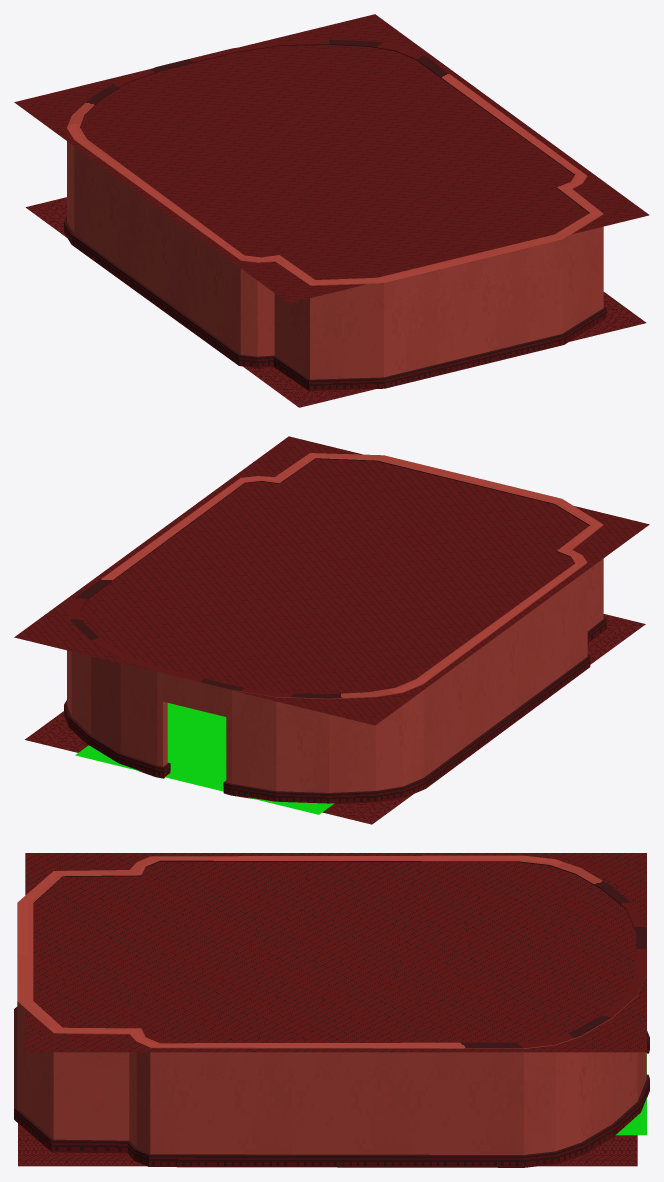
File: Inferno.fbx
3 renders of one model, top to bottom at view 1: azimuth 30°, elevation 25°; view 2: azimuth 150°, elevation 25°; view 3: azimuth 270°, elevation 25°, orthographic. The views are drawn at different scales.
Visible parts, largest first — view 1: Teto, Paredes, Chão; view 2: Teto, Paredes, Chão; view 3: Teto, Paredes, Chão.
Part boxes in pixels (bbox=[...]): Teto: bbox=[14, 14, 649, 303]; Paredes: bbox=[64, 39, 606, 390]; Chão: bbox=[25, 197, 646, 407]; Teto: bbox=[14, 436, 649, 725]; Paredes: bbox=[64, 453, 606, 803]; Chão: bbox=[25, 614, 645, 824]; Teto: bbox=[25, 853, 646, 1052]; Paredes: bbox=[14, 855, 649, 1167]; Chão: bbox=[18, 1053, 646, 1166].
Size of the model in its own units: 1603 by 503 by 2161.
Materials: 7 (4 with a texture image).
